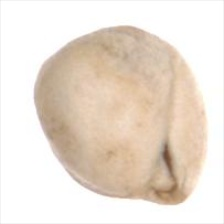L3: (142, 145, 189, 205)
L4: (32, 25, 208, 206)
